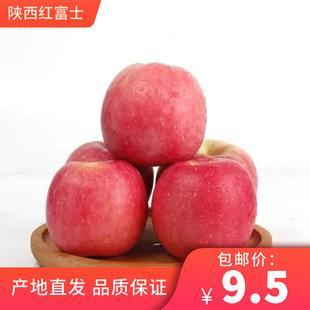apple: (150, 156, 261, 259), (101, 64, 206, 171), (44, 158, 148, 258)
